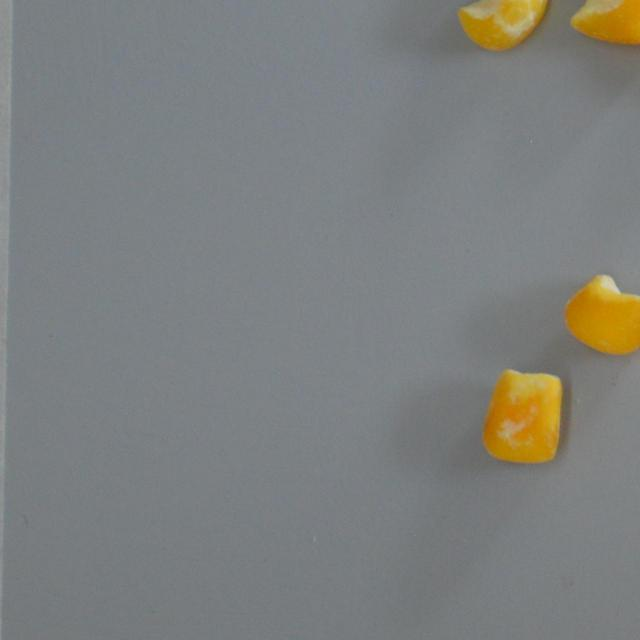no_canjicado: (560, 270, 640, 359)
pelicula: (480, 366, 564, 465), (455, 0, 552, 54), (565, 0, 640, 46)
